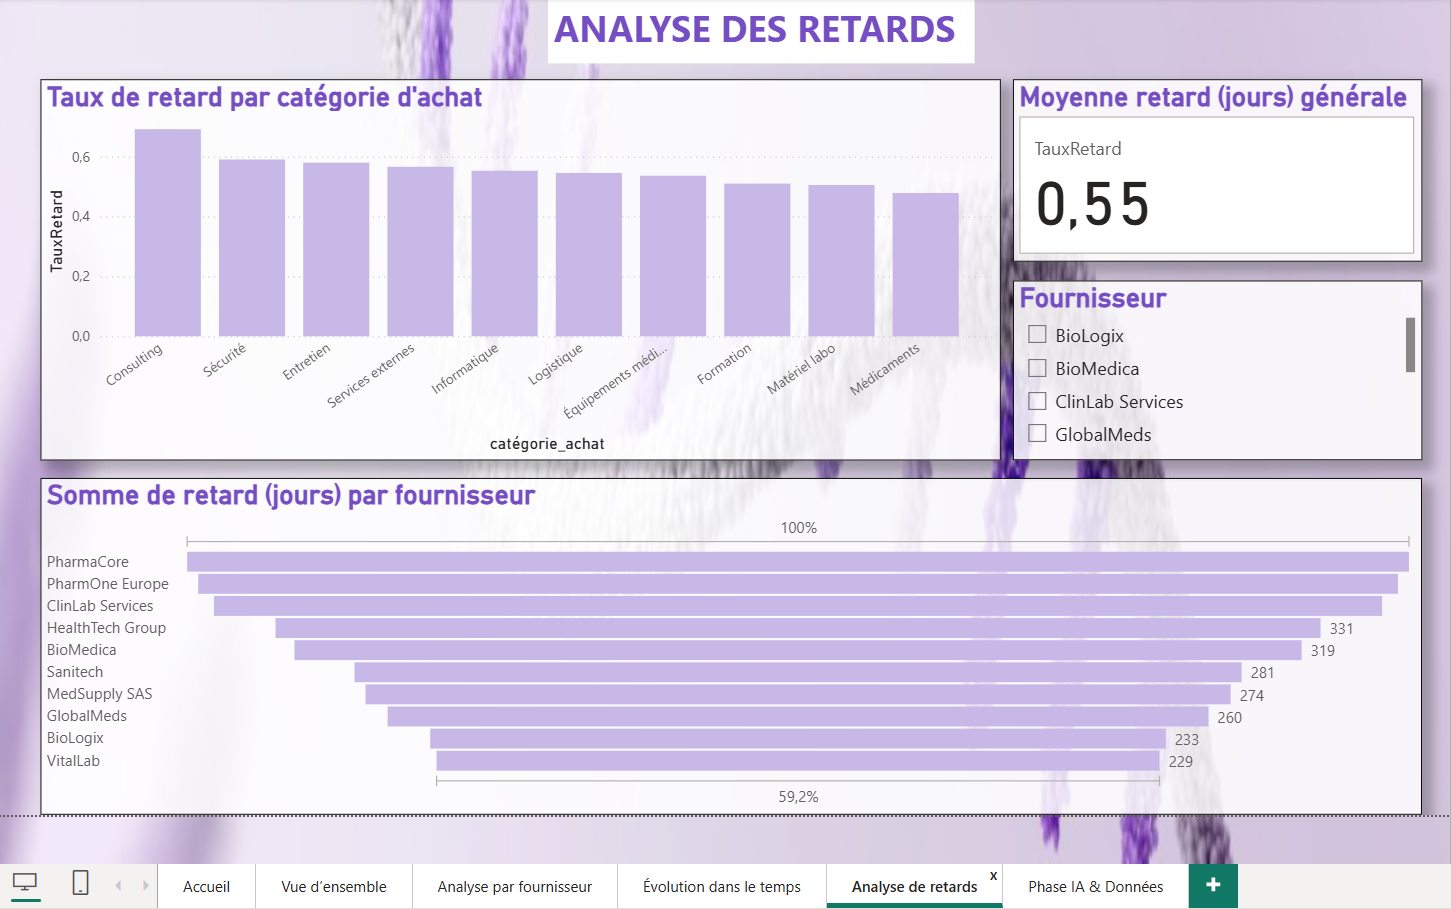

This screenshot's page, from the dashboard's own definition file:
{"tool":"powerbi","page":{"name":"Analyse de retards","canvas":[1280,720],"ordinal":4},"visuals":[{"type":"textbox","box":[484.8,0,375.7,57.3],"z":0},{"type":"lineStackedColumnComboChart","title":"Taux de retard par catégorie d''achat","fields":{"Category":["procuresenseai_data_sanofi.catégorie_achat"],"Y":["procuresenseai_data_sanofi.TauxRetard"]},"box":[37.9,71.9,846.5,335.7],"z":1000},{"type":"funnel","fields":{"Category":["procuresenseai_data_sanofi.fournisseur"],"Y":["Sum(procuresenseai_data_sanofi.retard (jours))"]},"box":[37.9,423.3,1217.6,296.6],"z":2000},{"type":"cardVisual","title":"Moyenne retard (jours) générale","fields":{"Data":["procuresenseai_data_sanofi.TauxRetard"]},"box":[894.9,71.9,360.6,160.7],"z":3000},{"type":"slicer","title":"Fournisseur","fields":{"Values":["procuresenseai_data_sanofi.fournisseur"]},"box":[894.9,249.5,360.6,158.1],"z":4000}]}

Visuals, with their boxes on the page's 1280x720 design canvas (x1, y1, x2, y2). These are canvas units, not pixel positions in the 1451x909 screenshot, which may show the page scaled, cropped or inside an application window:
textbox: crop(485, 0, 860, 57)
"Taux de retard par catégorie d''achat" lineStackedColumnComboChart: crop(38, 72, 884, 408)
funnel - procuresenseai_data_sanofi.fournisseur x Sum(procuresenseai_data_sanofi.retard (jours)): crop(38, 423, 1256, 720)
"Moyenne retard (jours) générale" cardVisual: crop(895, 72, 1256, 233)
"Fournisseur" slicer: crop(895, 250, 1256, 408)
